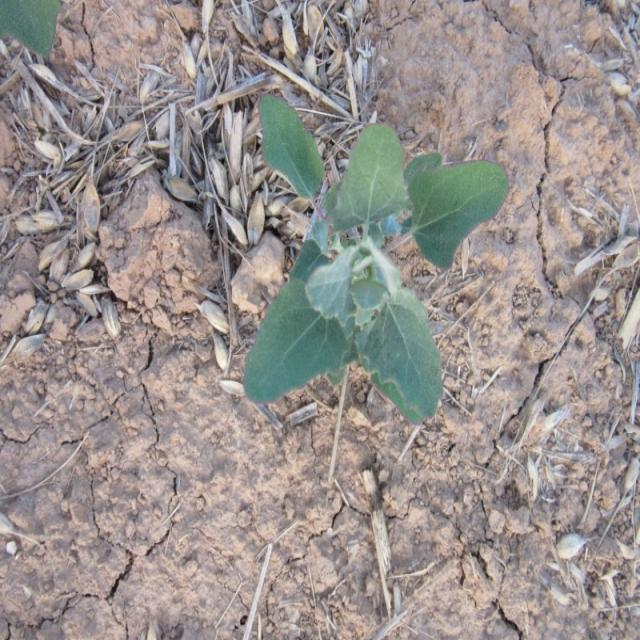ca: (250, 98, 510, 422)
